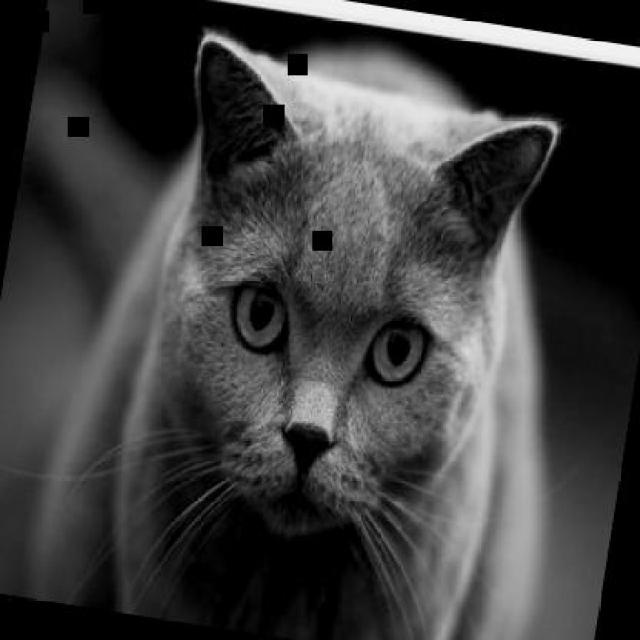cat: (23, 9, 615, 638)
